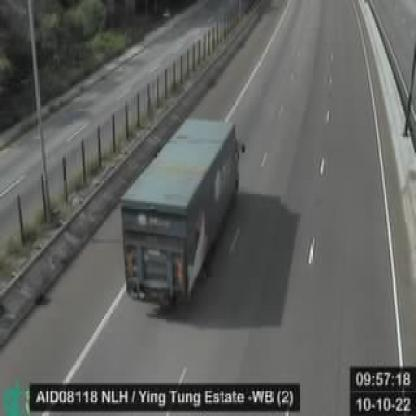Truck: (122, 113, 243, 318)
